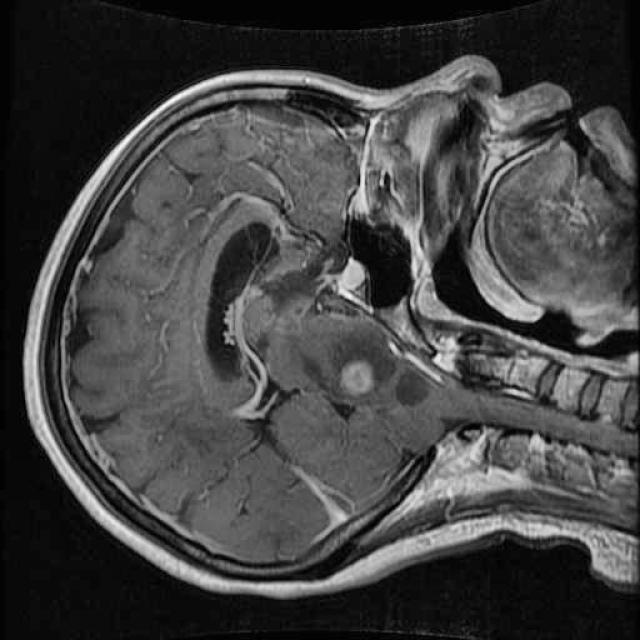Tumor: (328, 342, 392, 412)
